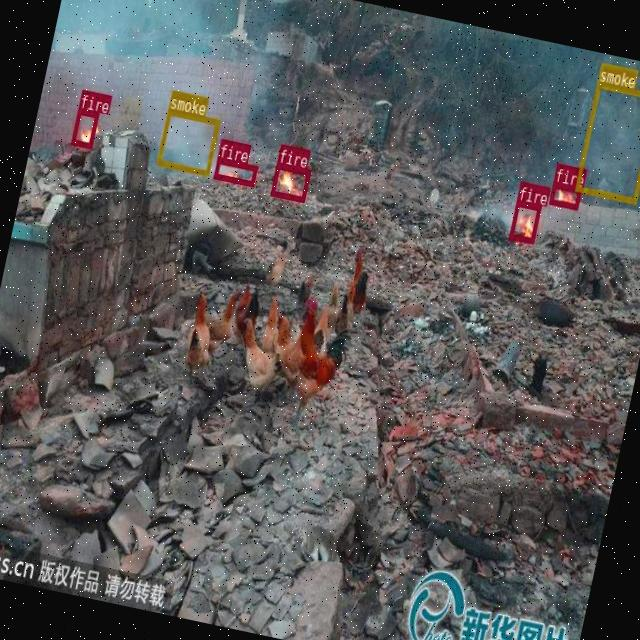fire: (270, 162, 310, 200), (508, 200, 540, 242), (213, 157, 257, 186), (71, 108, 98, 148), (548, 181, 582, 208)
smoke: (573, 80, 640, 202), (156, 108, 220, 174)
